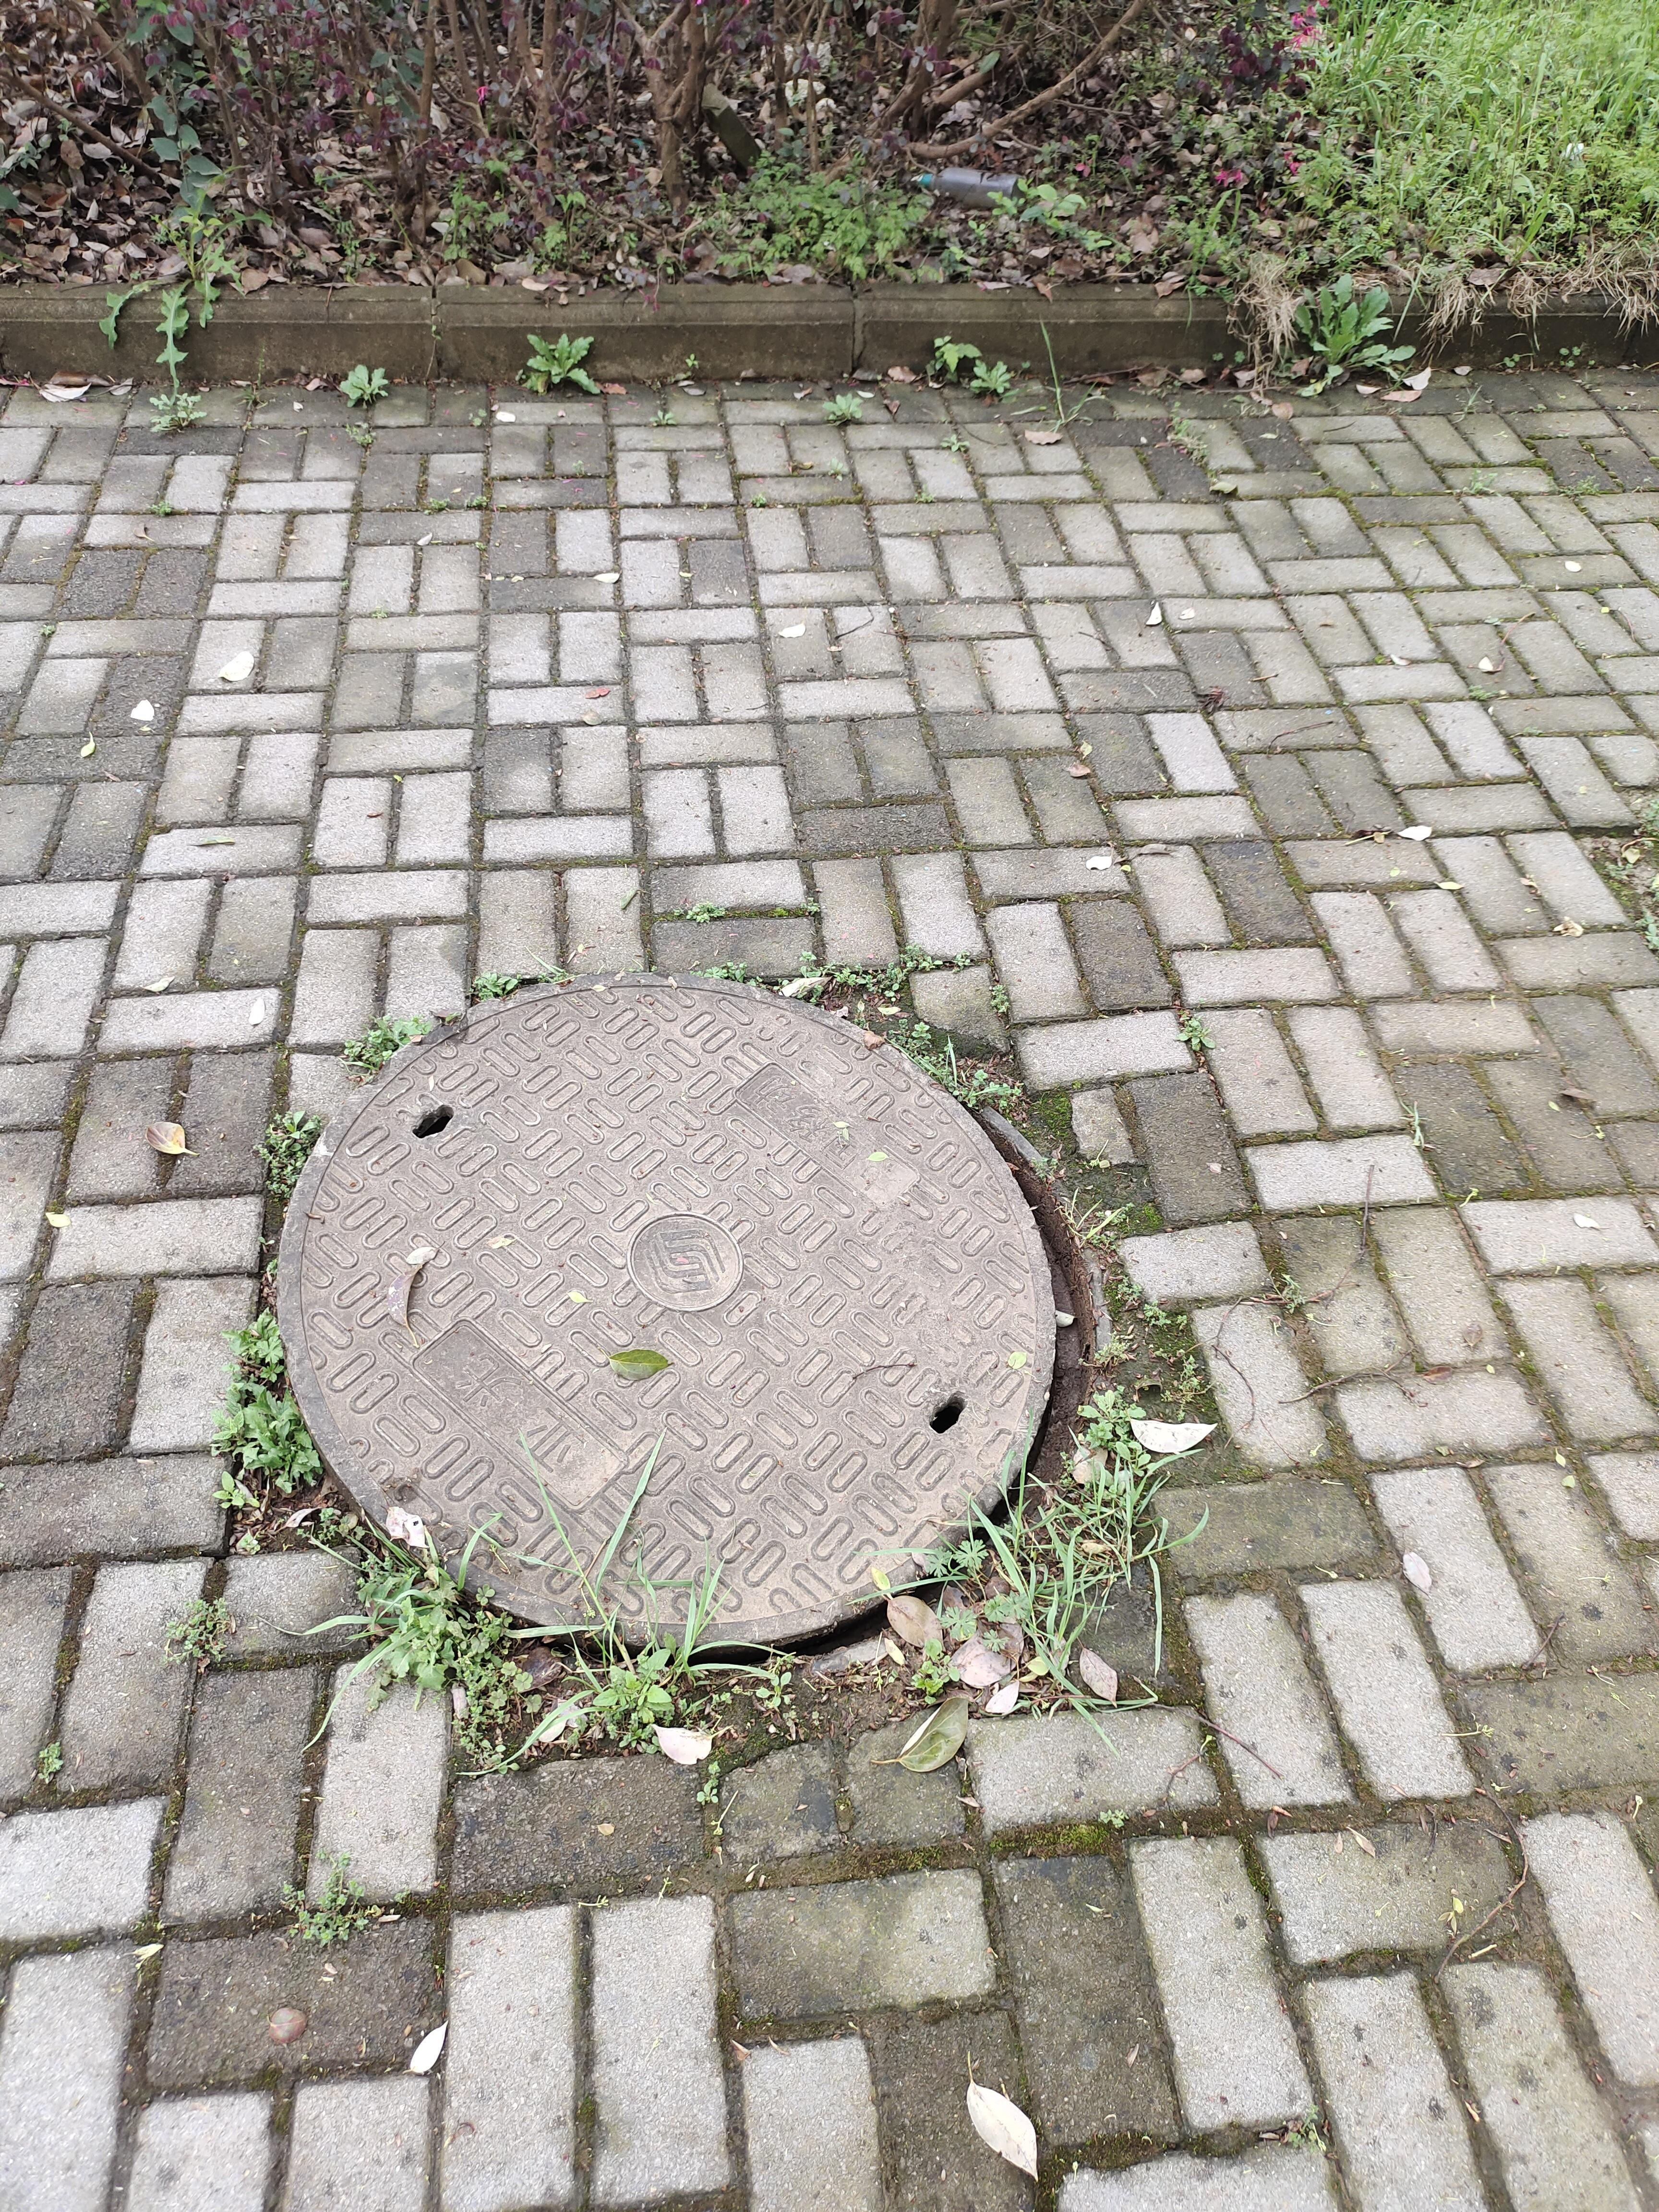wellcover: (239, 916, 1127, 1705)
